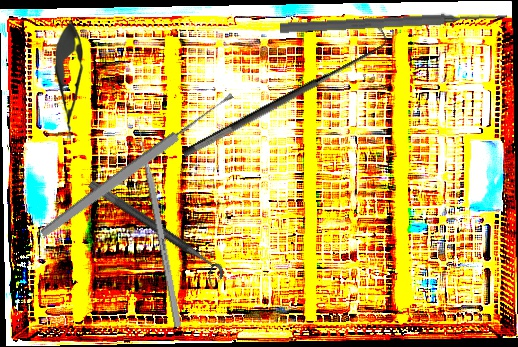Fixation Ring: (80, 178, 228, 290)
Hook Surgical: (172, 23, 394, 161)
Micro Scissor: (54, 20, 84, 140)
Pusher: (134, 120, 183, 328), (279, 9, 508, 36)
Surgical Spoon: (38, 90, 237, 240)
